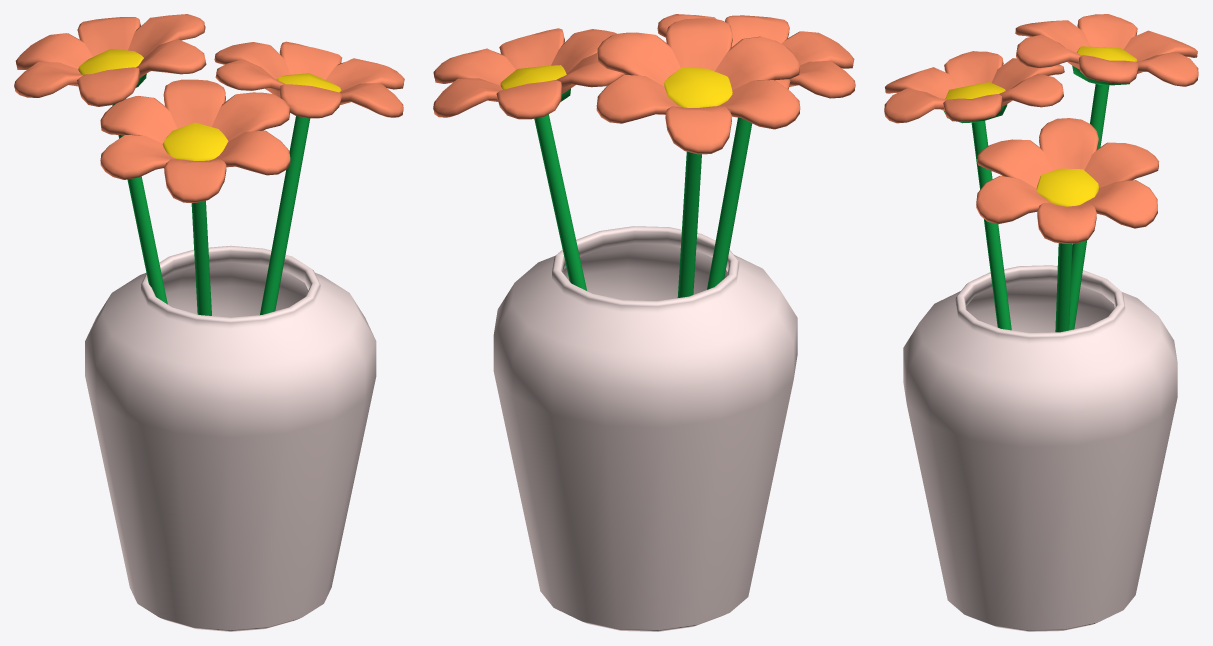
Rendered from Store_6_Vase_with_Flowers_1.glb.
3 views of the same model, side by side, from view 1: azimuth 30°, elevation 25°; view 2: azimuth 150°, elevation 25°; view 3: azimuth 270°, elevation 25° (orthographic). The views are drawn at different scales.
Visible parts, largest first — view 1: Store_6_Vase_with_Flowers_1; view 2: Store_6_Vase_with_Flowers_1; view 3: Store_6_Vase_with_Flowers_1.
Part boxes in pixels (<box>): Store_6_Vase_with_Flowers_1: <box>14,14,404,631</box>; Store_6_Vase_with_Flowers_1: <box>433,14,855,631</box>; Store_6_Vase_with_Flowers_1: <box>884,14,1198,631</box>.
Size of the model in its own units: 0.3735 by 0.549 by 0.2966.
1 material, 1 textured.
